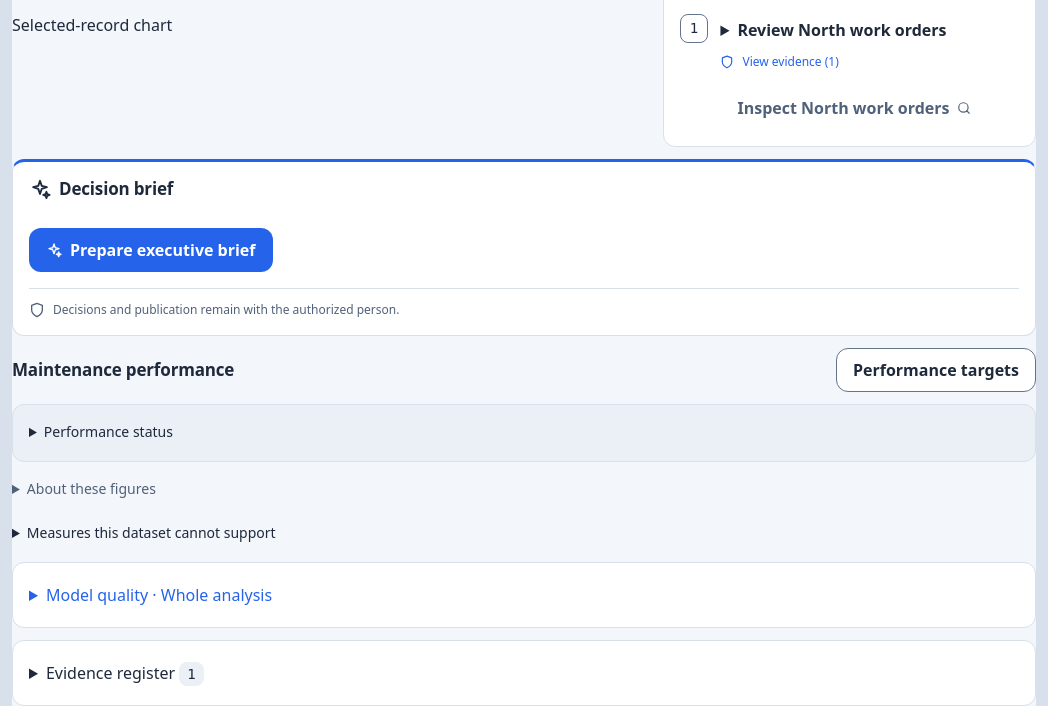
Test: executive decision overview › preserves a weak verdict even when a model beats its baseline numerically
The width and height of the screenshot is (1048, 706).
(page scrolled)
Expected: the text "Below evaluation criteria" is not shown
Click the heading "Model quality · Whole analysis": coordinates (159, 595) [46, 584, 272, 606]
(page scrolled)
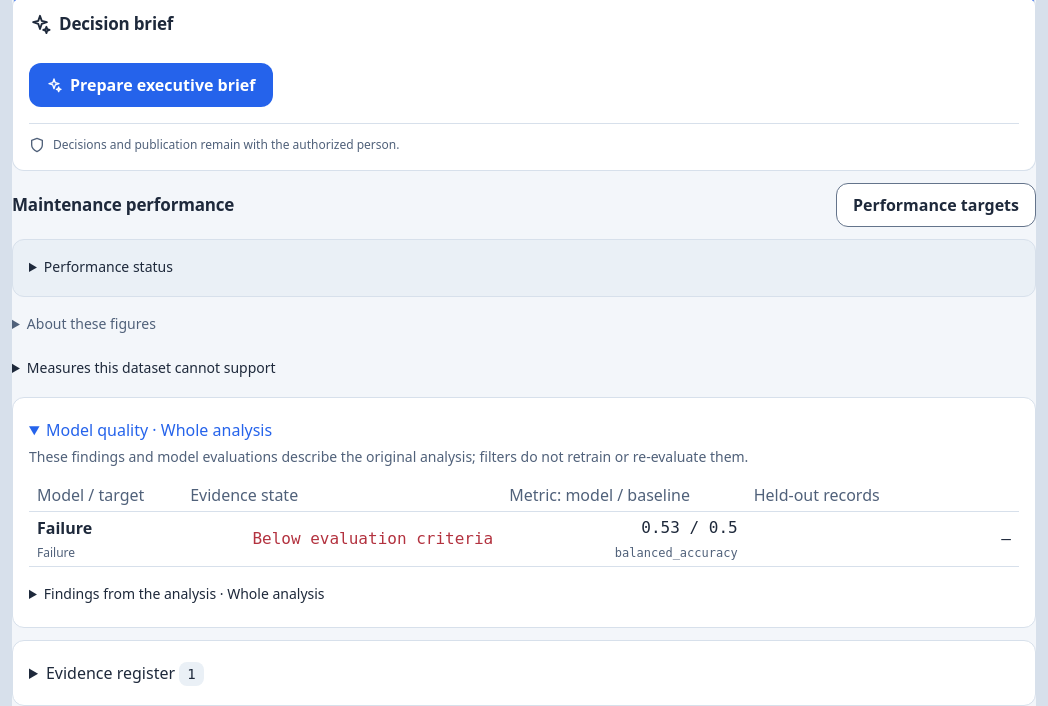
Expected: the text "Below evaluation criteria" is shown, [252, 527, 493, 551]
